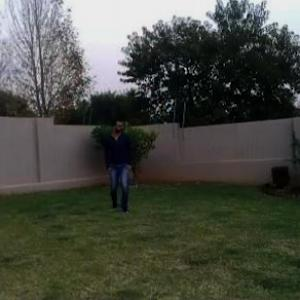follow: (104, 114, 134, 215)
